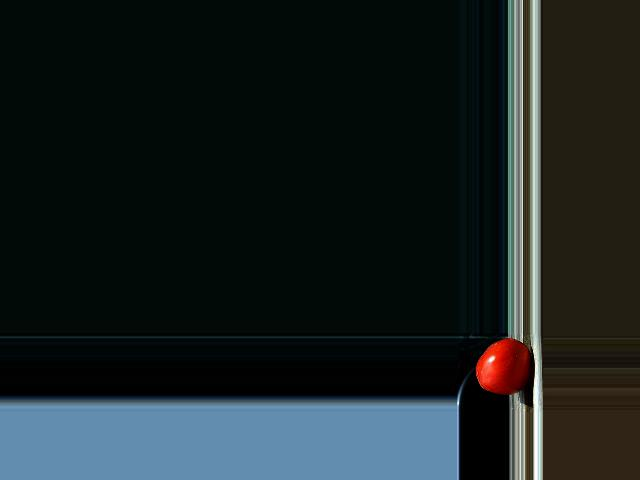tomato: (475, 338, 531, 395)
